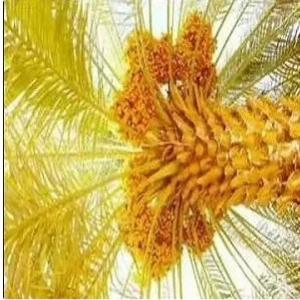palm tree: (3, 0, 299, 299)
